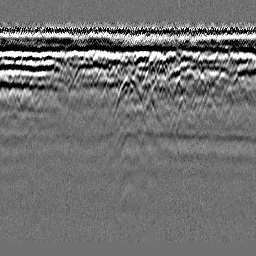cavity: (112, 74, 144, 117)
